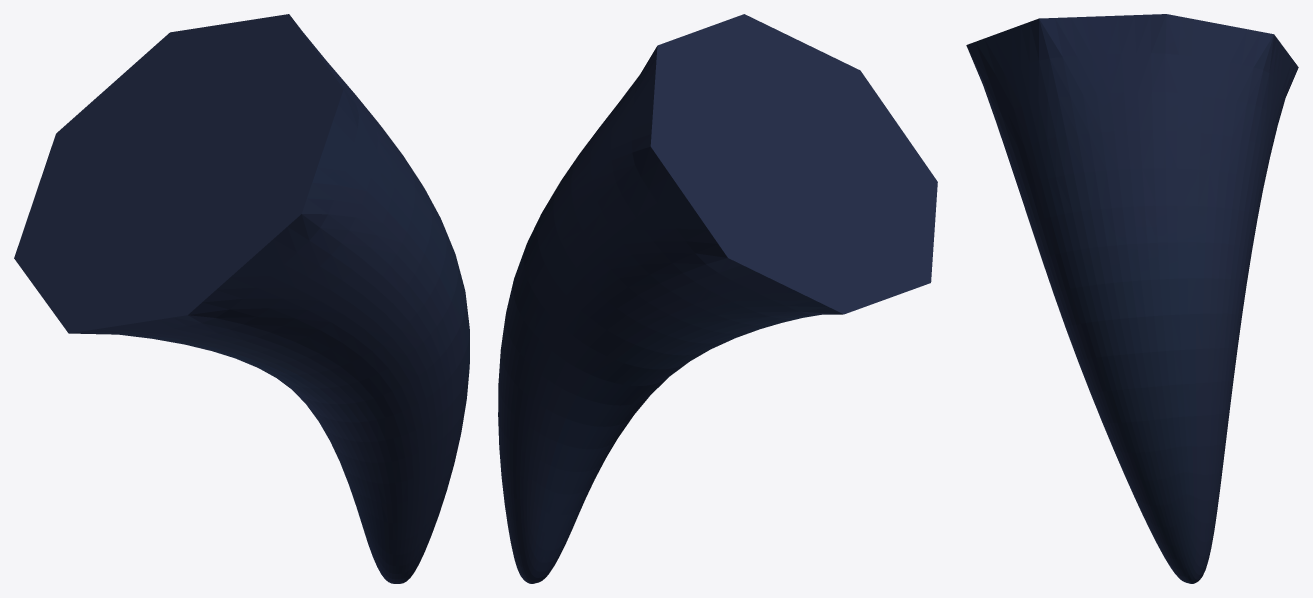
The model's file is WatcherKnightLeftLeg.obj.
3 renders of one model, left to right at view 1: azimuth 30°, elevation 25°; view 2: azimuth 150°, elevation 25°; view 3: azimuth 270°, elevation 25°, orthographic. The views are drawn at different scales.
Visible parts, largest first — view 1: Watcher_Knights.002; view 2: Watcher_Knights.002; view 3: Watcher_Knights.002.
Part boxes in pixels (bbox=[...]): Watcher_Knights.002: bbox=[14, 14, 469, 583]; Watcher_Knights.002: bbox=[498, 14, 937, 583]; Watcher_Knights.002: bbox=[966, 14, 1298, 583].
Bounding box in the file's own units: 3.93 × 5.37 × 3.13.
